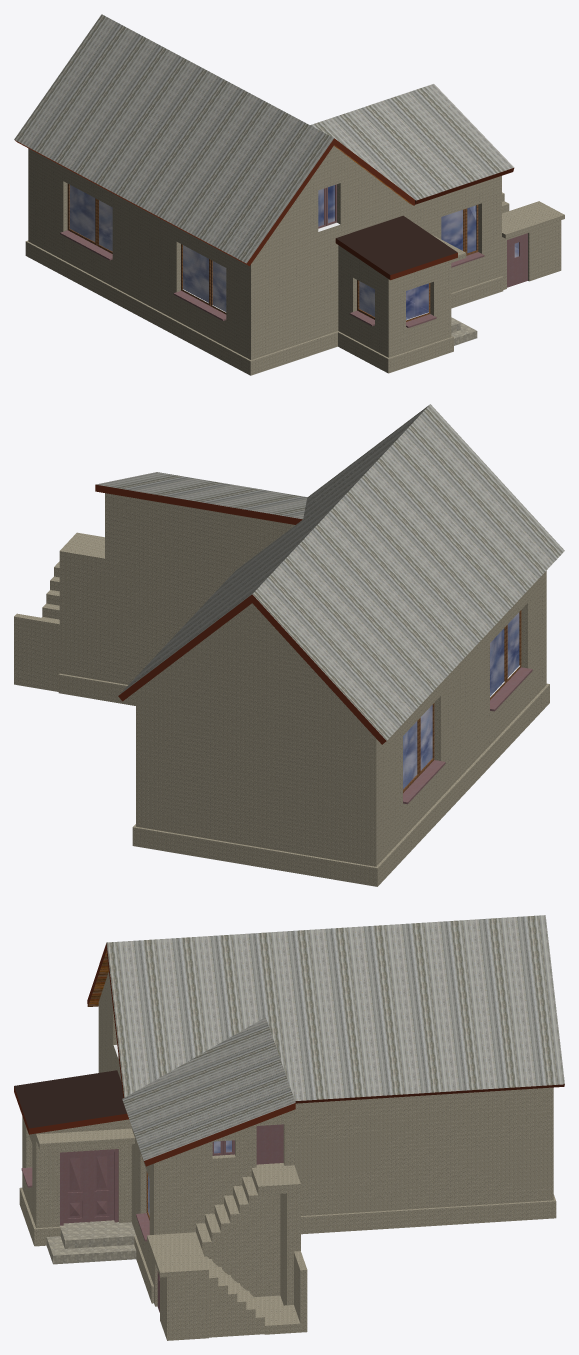
Rendered from home.dae.
The picture shows the model from 3 angles, top to bottom: view 1: azimuth 30°, elevation 25°; view 2: azimuth 150°, elevation 25°; view 3: azimuth 270°, elevation 25°; orthographic projection. The views are drawn at different scales.
Parts seen in each view (by area): view 1: skp53 (×17); view 2: skp53 (×11); view 3: skp53 (×10).
Part boxes in pixels (left/top/right/bottom): skp53 (×17): left=14, top=14, right=564, bottom=375; skp53 (×11): left=14, top=404, right=564, bottom=886; skp53 (×10): left=14, top=915, right=564, bottom=1340.
Bounding box in the file's own units: 567 × 576 × 291.
20 materials, 9 textured.
